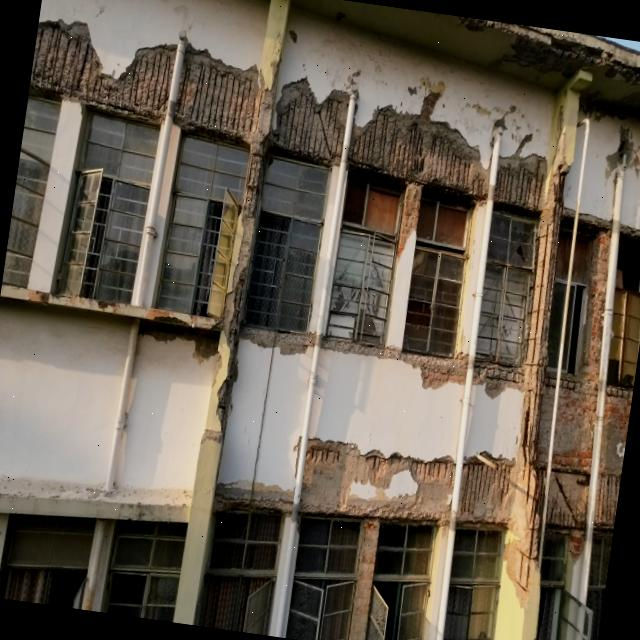Corrosion stain: (146, 309, 173, 322), (28, 290, 49, 304)
Spalling: (173, 0, 291, 625), (175, 44, 350, 193), (492, 154, 567, 402), (29, 22, 176, 120), (348, 106, 489, 206), (301, 439, 455, 524), (322, 331, 465, 387), (458, 453, 519, 526), (550, 466, 590, 530), (241, 321, 314, 351), (595, 473, 621, 531)
exposed brickwork: (552, 234, 610, 473), (600, 386, 633, 475), (536, 372, 554, 465)
